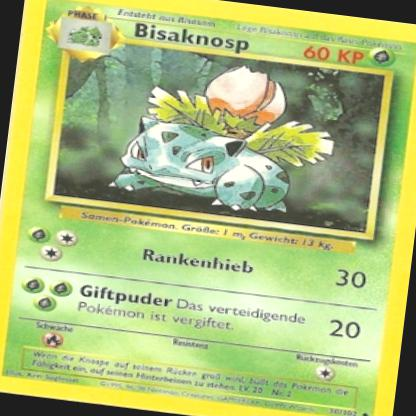Ivysaur: (105, 52, 344, 226)
